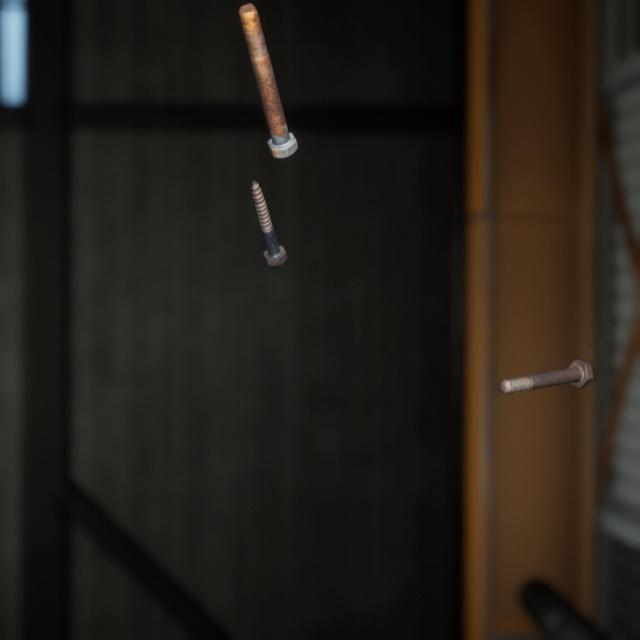bolt: (234, 0, 302, 151), (246, 159, 292, 255), (494, 336, 597, 378)
